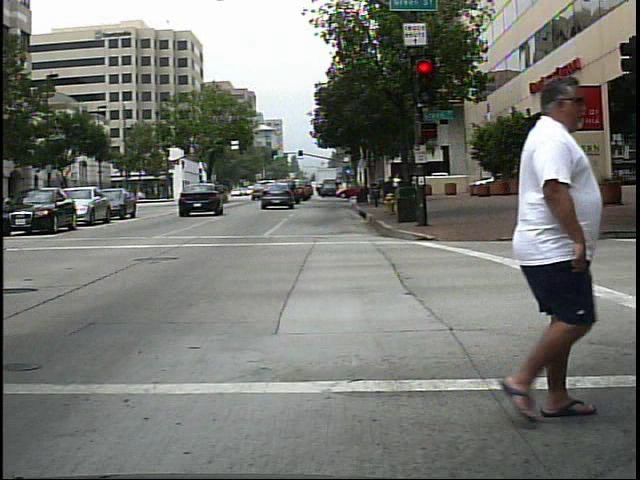person: (471, 71, 612, 429)
